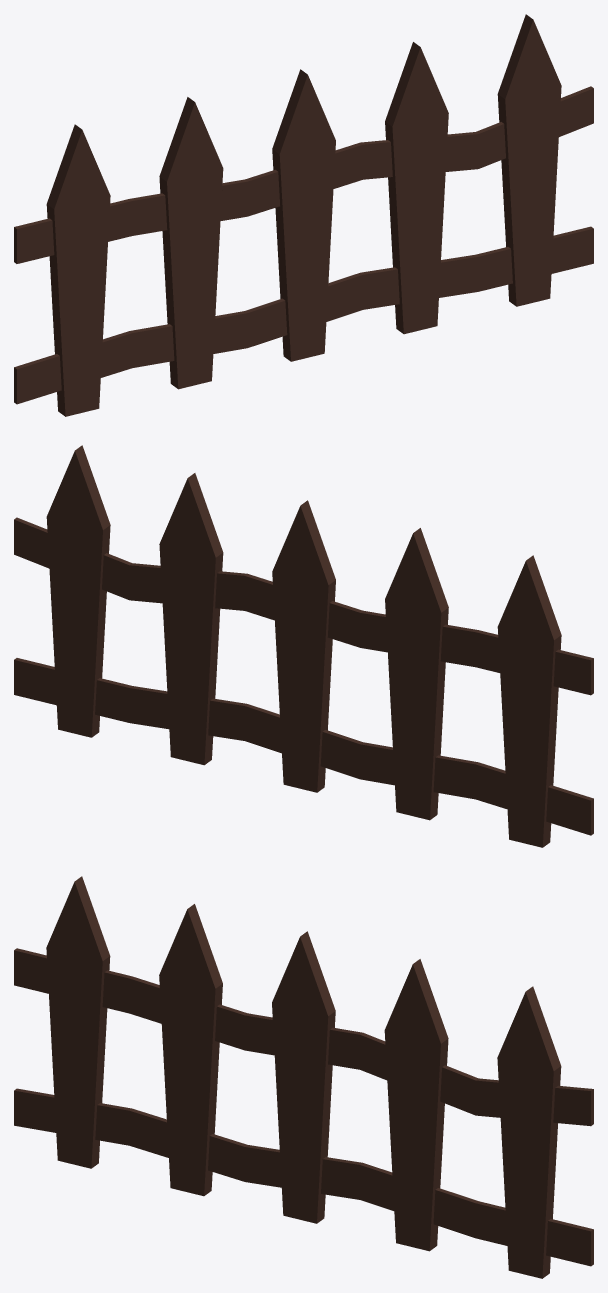
Rendered from CercaMadeiraAbertoAmbosLados.fbx.
The picture shows the model from 3 angles, top to bottom: view 1: azimuth 30°, elevation 25°; view 2: azimuth 150°, elevation 25°; view 3: azimuth 330°, elevation 25°; orthographic projection.
Parts seen in each view (by area): view 1: CercaMadeira01; view 2: CercaMadeira01; view 3: CercaMadeira01.
Boxes of the visible parts, x1,y1,x2,y2 form: CercaMadeira01: (14,14,593,416); CercaMadeira01: (14,445,593,847); CercaMadeira01: (14,876,593,1278).
Size of the model in its own units: 781 by 366 by 17.59.
